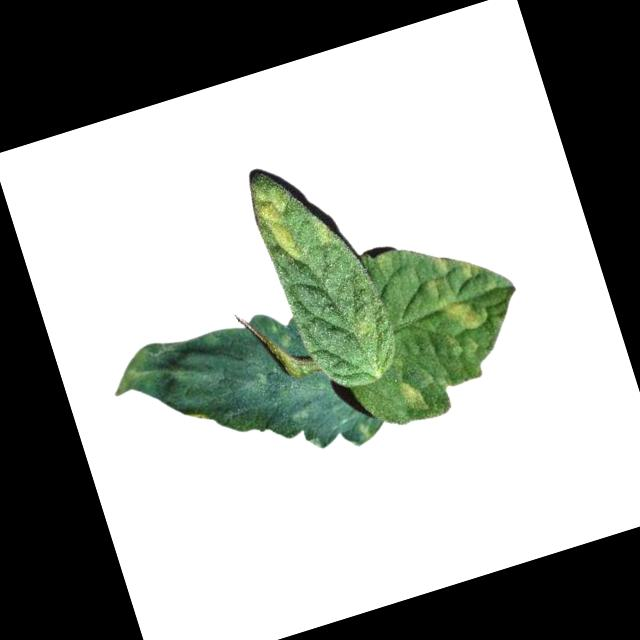Leaf_Mold: (101, 287, 384, 510), (248, 179, 312, 270), (439, 294, 485, 336), (390, 375, 428, 419)
